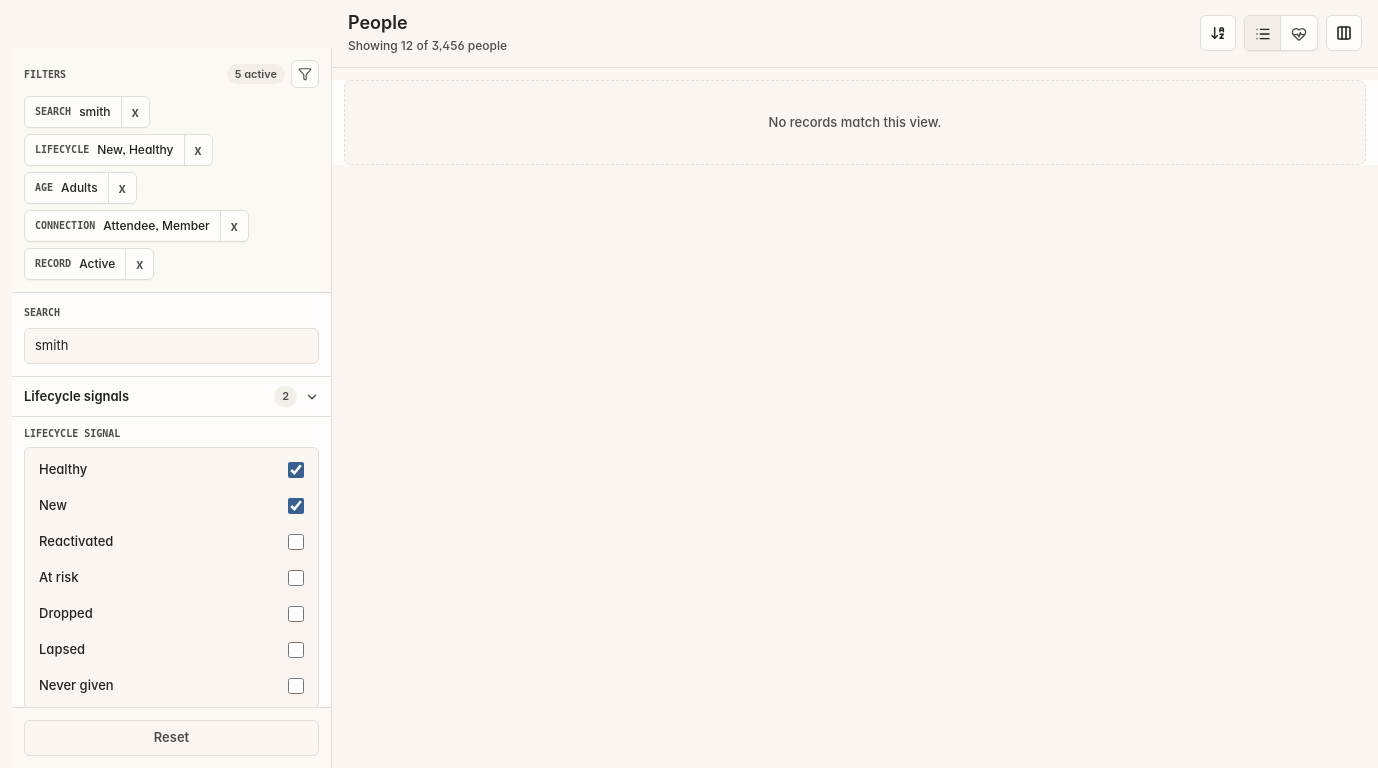
Scenario: ListViewShell › moves display selection into the list header without the applied view subtitle
Expected: the heading "People" is shown, [348, 12, 408, 33]
Click the button named "Display columns". click: [1344, 33]
box: [1326, 15, 1362, 51]
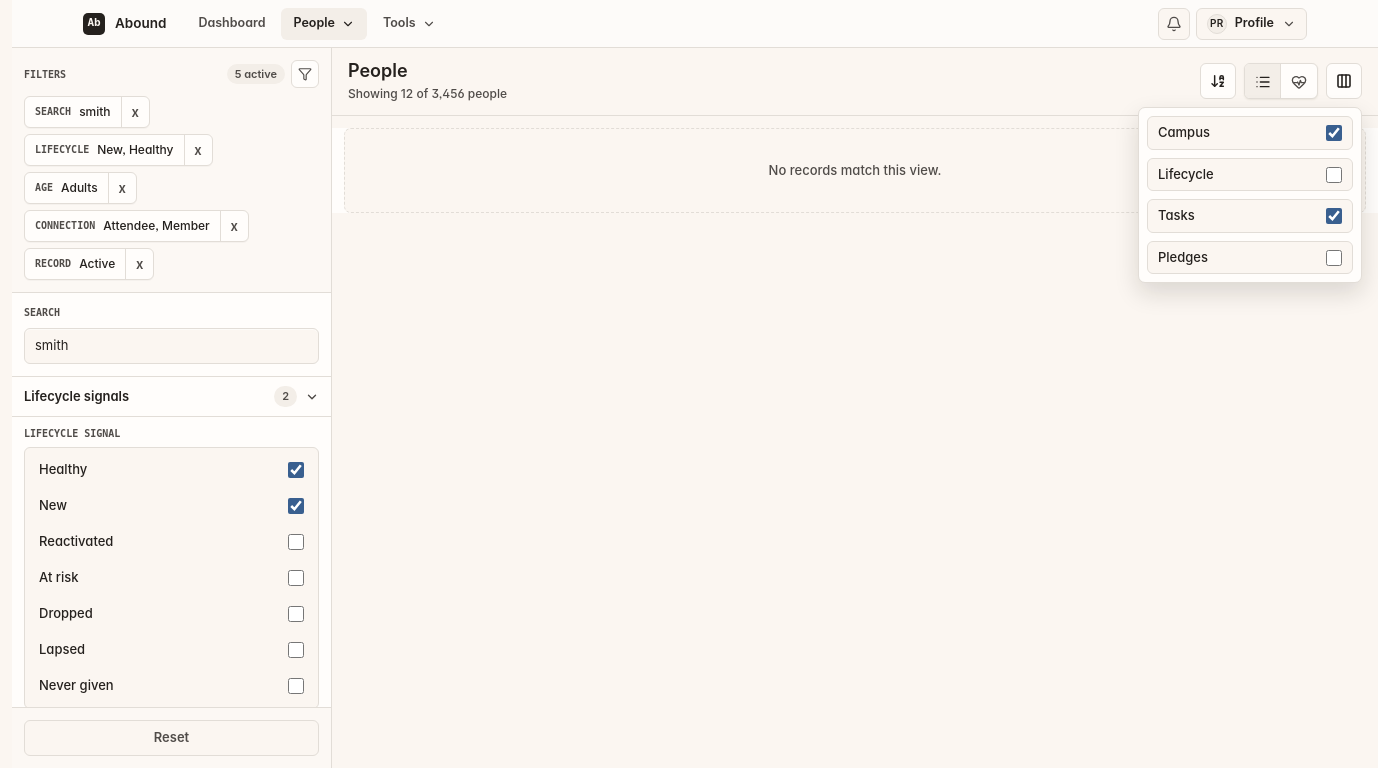
Expected: the button named "Display columns" is expanded, [1326, 63, 1362, 99]
